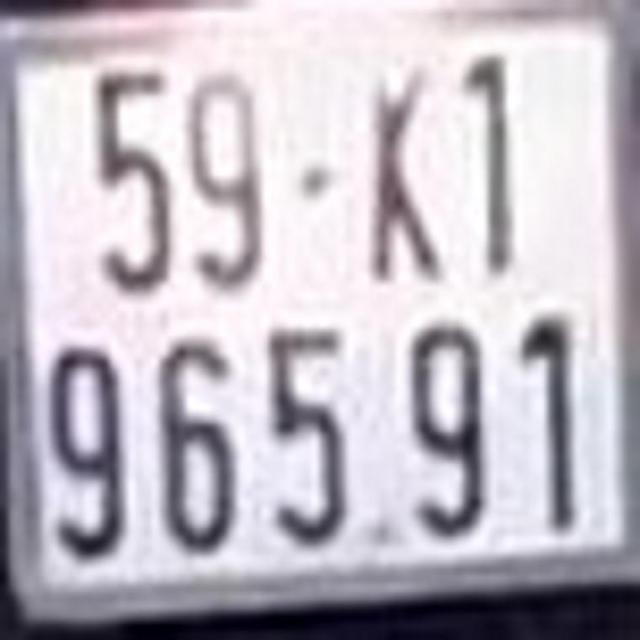1: (462, 50, 520, 273), (519, 307, 577, 519)
5: (263, 320, 353, 543), (100, 70, 174, 296)
6: (156, 335, 244, 544)
9: (49, 338, 135, 565), (408, 320, 484, 541), (187, 74, 260, 288)
K: (366, 52, 454, 288)
